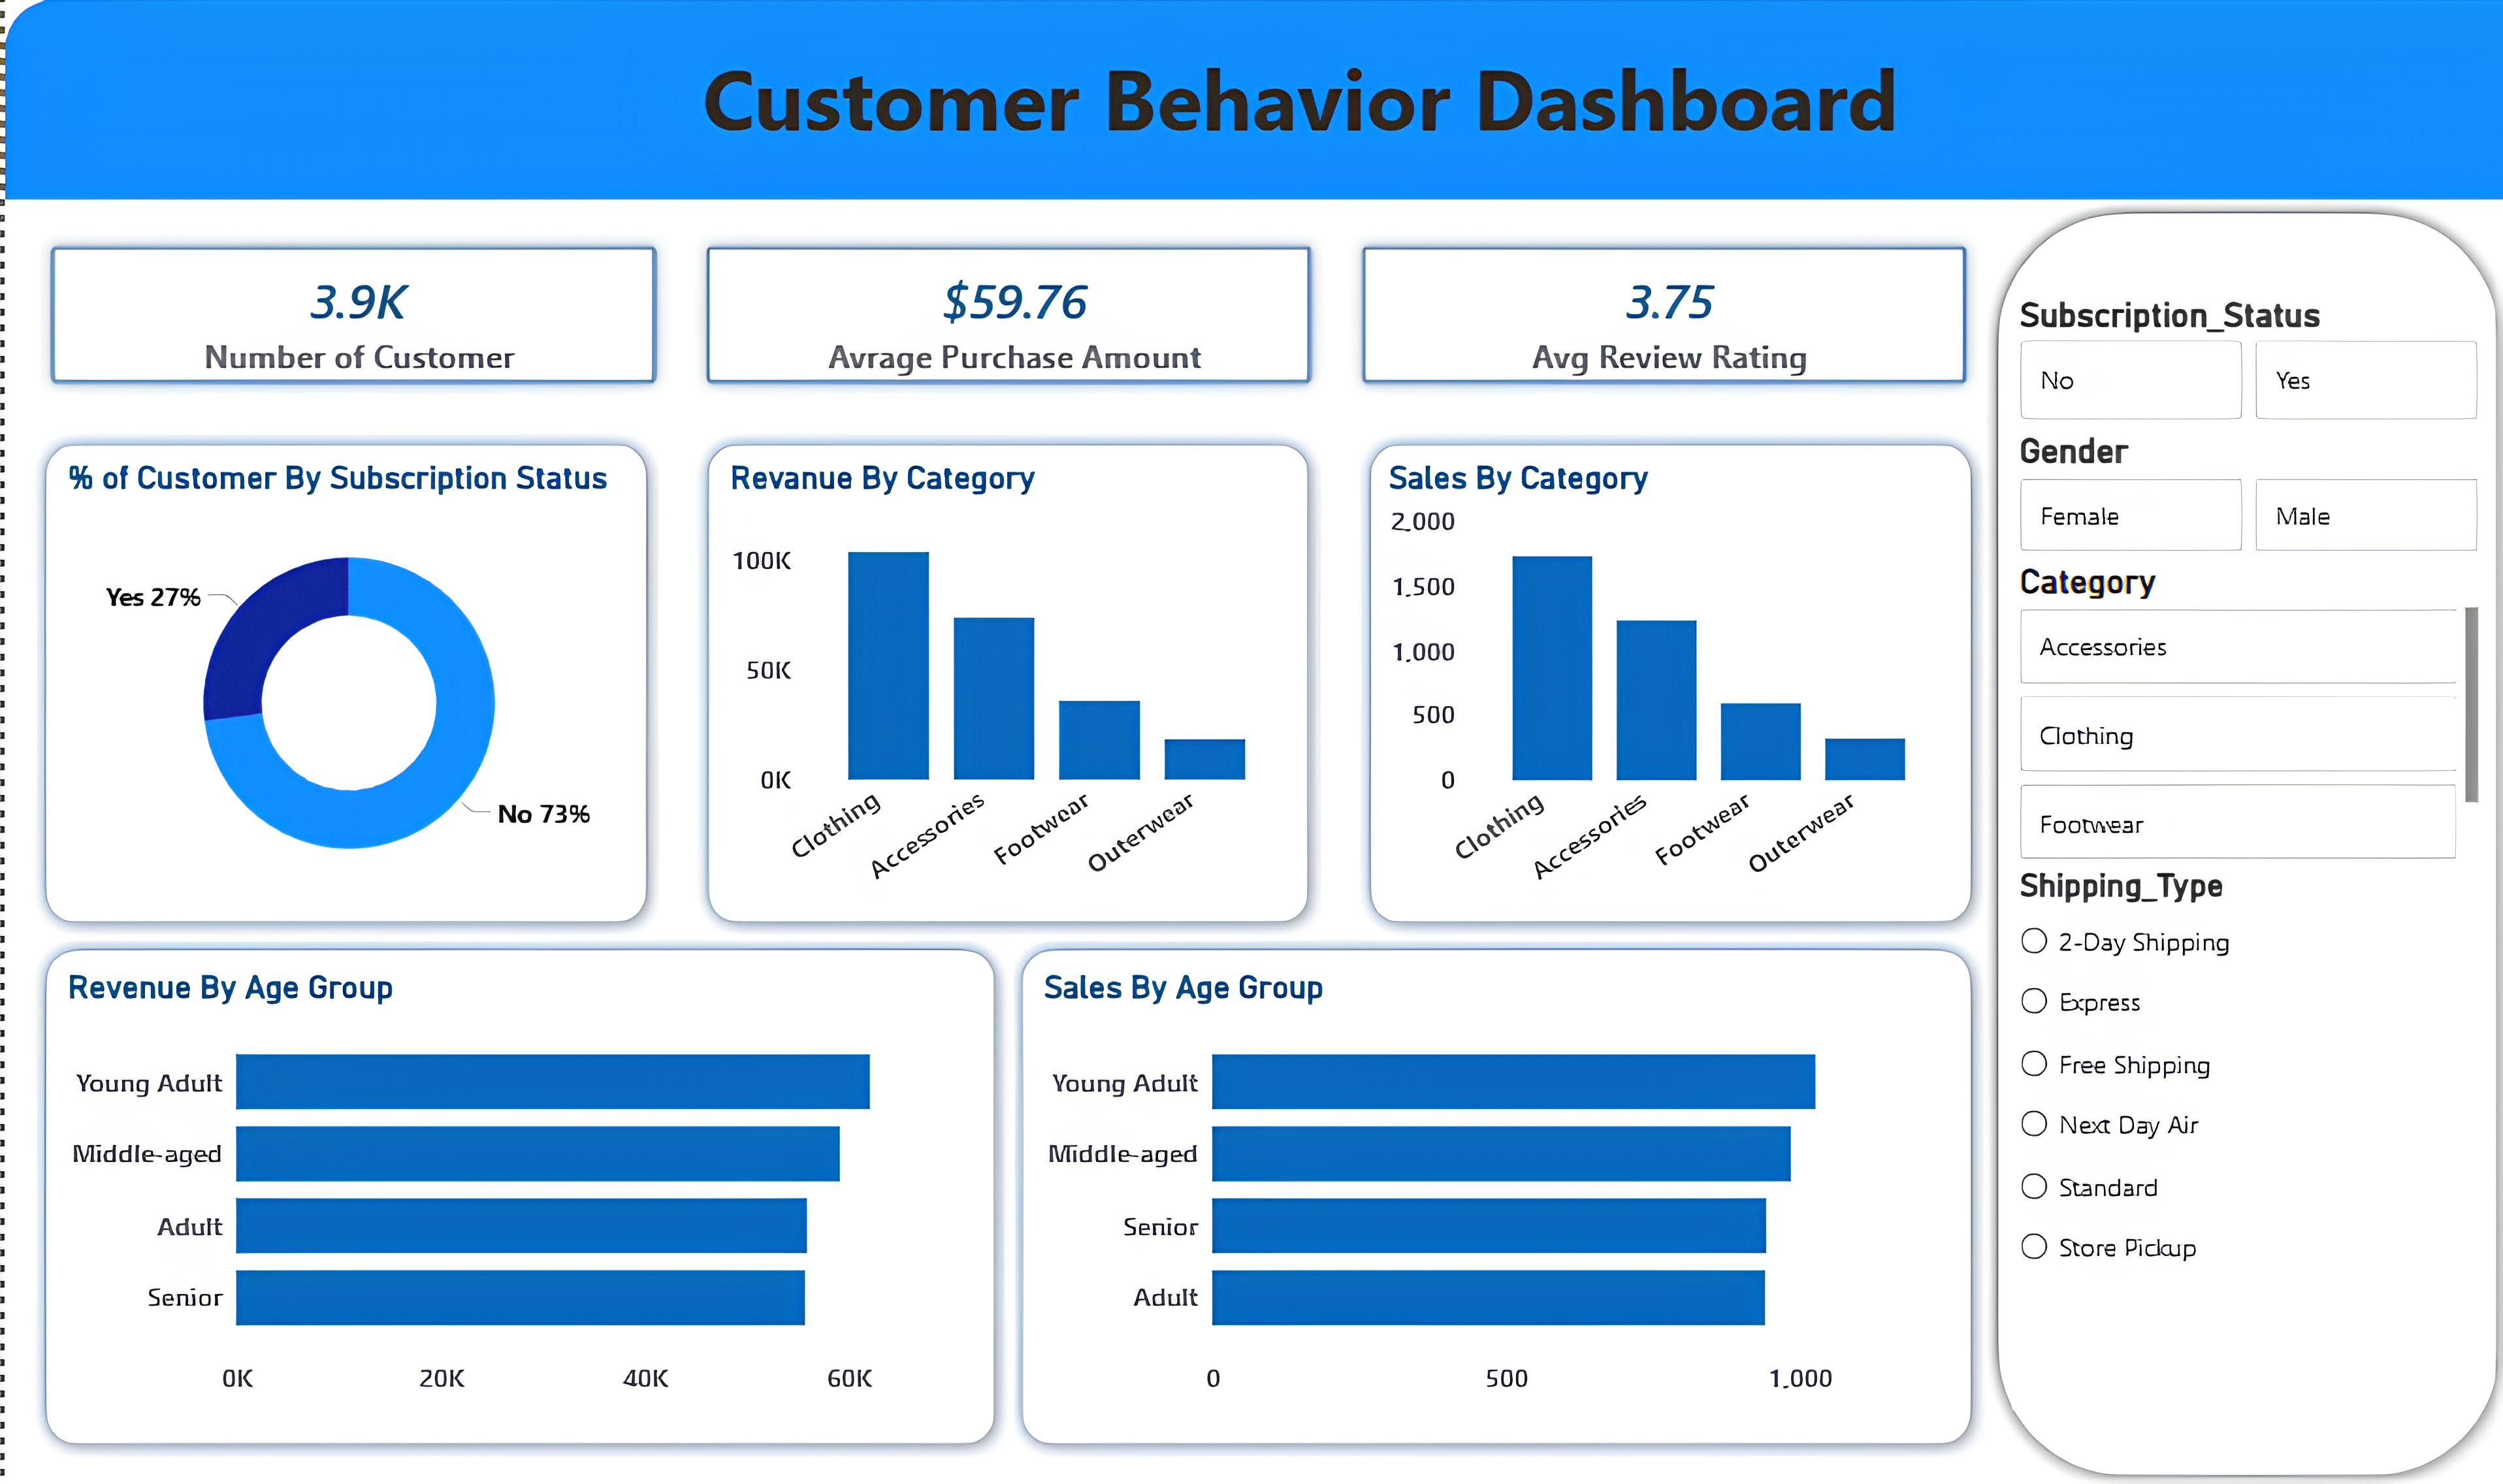

The dashboard page shown, as its layout file describes it:
{"tool":"powerbi","page":{"name":"Page 1","canvas":[1600,950],"ordinal":0},"visuals":[{"type":"cardVisual","fields":{"Data":["customer_behaviour customer.Number of Customer","customer_behaviour customer.Avrage Purchase Amount","customer_behaviour customer.Avg Review Rating"]},"box":[0,128,1280,146],"z":0},{"type":"shape","box":[0,0,1700,127.5],"z":1000},{"type":"textbox","box":[242.5,20,1167.5,90],"z":2000},{"type":"shape","box":[18,274,400,322],"z":3000},{"type":"donutChart","title":"% of Customer By Subscription Status","fields":{"Category":["customer_behaviour customer.subscription_status"],"Y":["CountNonNull(customer_behaviour customer.customer_id)"]},"box":[34,292,368,288],"z":4000},{"type":"shape","box":[440,276,400,322],"z":5000},{"type":"shape","box":[862,274,400,322],"z":6000},{"type":"clusteredColumnChart","title":"Revanue By Category","fields":{"Y":["Sum(customer_behaviour customer.purchase_amount)"],"Category":["customer_behaviour customer.category"]},"box":[456.2,292.5,367.5,287.5],"z":7000},{"type":"clusteredColumnChart","title":"Sales By  Category","fields":{"Y":["CountNonNull(customer_behaviour customer.customer_id)"],"Category":["customer_behaviour customer.category"]},"box":[878,292,368,288],"z":8000},{"type":"shape","box":[1262.5,127.5,337.5,822.5],"z":9000},{"type":"advancedSlicerVisual","title":"Subscription_Status","fields":{"Values":["customer_behaviour customer.subscription_status"]},"box":[1280,187.5,302.5,85],"z":10000},{"type":"advancedSlicerVisual","title":"Gender","fields":{"Values":["customer_behaviour customer.gender"]},"box":[1280,275,302.5,82.5],"z":10001},{"type":"advancedSlicerVisual","title":"Category","fields":{"Values":["customer_behaviour customer.category"]},"box":[1280,357.5,302.5,195],"z":10002},{"type":"listSlicer","title":"Shipping_Type","fields":{"Values":["customer_behaviour customer.shipping_type"]},"box":[1280,552.5,297.5,347.5],"z":10003},{"type":"shape","box":[17.5,597.5,622.5,332.5],"z":10004},{"type":"clusteredBarChart","title":"Revenue By Age Group","fields":{"Y":["Sum(customer_behaviour customer.purchase_amount)"],"Category":["customer_behaviour customer.age_group"]},"box":[35,617.5,587.5,282.5],"z":10005},{"type":"shape","box":[640,597.5,622.5,332.5],"z":10006},{"type":"clusteredBarChart","title":"Sales By Age Group","fields":{"Y":["CountNonNull(customer_behaviour customer.customer_id)"],"Category":["customer_behaviour customer.age_group"]},"box":[657.5,617.5,587.5,282.5],"z":10007}]}

Visuals, with their boxes in screenshot pixels (x1, y1, x2, y2), scaled from the page's 1600x950 canvas onto the 2503x1484 screenshot:
cardVisual - customer_behaviour customer.Number of Customer x customer_behaviour customer.Avrage Purchase Amount: bbox=(0, 200, 2003, 428)
shape: bbox=(0, 0, 2502, 199)
textbox: bbox=(379, 31, 2206, 172)
shape: bbox=(28, 428, 654, 931)
"% of Customer By Subscription Status" donutChart: bbox=(53, 456, 629, 906)
shape: bbox=(688, 431, 1314, 934)
shape: bbox=(1348, 428, 1974, 931)
"Revanue By Category" clusteredColumnChart: bbox=(714, 457, 1289, 906)
"Sales By  Category" clusteredColumnChart: bbox=(1374, 456, 1949, 906)
shape: bbox=(1975, 199, 2502, 1483)
"Subscription_Status" advancedSlicerVisual: bbox=(2003, 293, 2476, 426)
"Gender" advancedSlicerVisual: bbox=(2003, 430, 2476, 558)
"Category" advancedSlicerVisual: bbox=(2003, 558, 2476, 863)
"Shipping_Type" listSlicer: bbox=(2003, 863, 2468, 1406)
shape: bbox=(27, 933, 1001, 1453)
"Revenue By Age Group" clusteredBarChart: bbox=(55, 965, 974, 1406)
shape: bbox=(1001, 933, 1975, 1453)
"Sales By Age Group" clusteredBarChart: bbox=(1029, 965, 1948, 1406)
